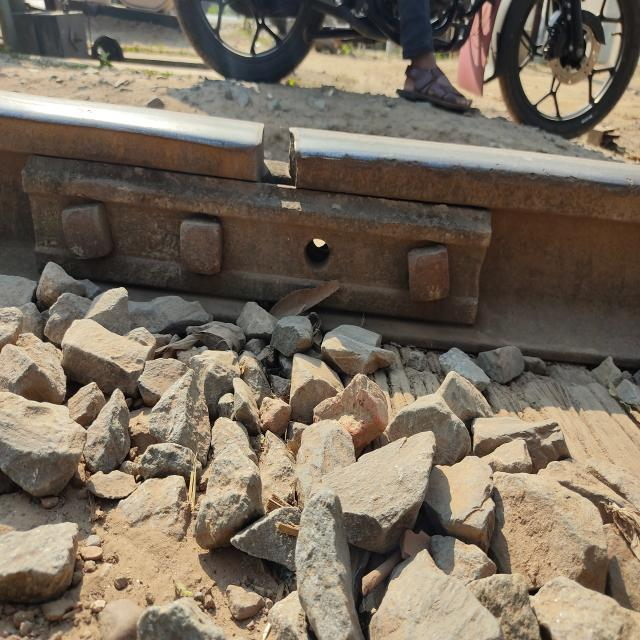defective: (230, 75, 394, 281)
